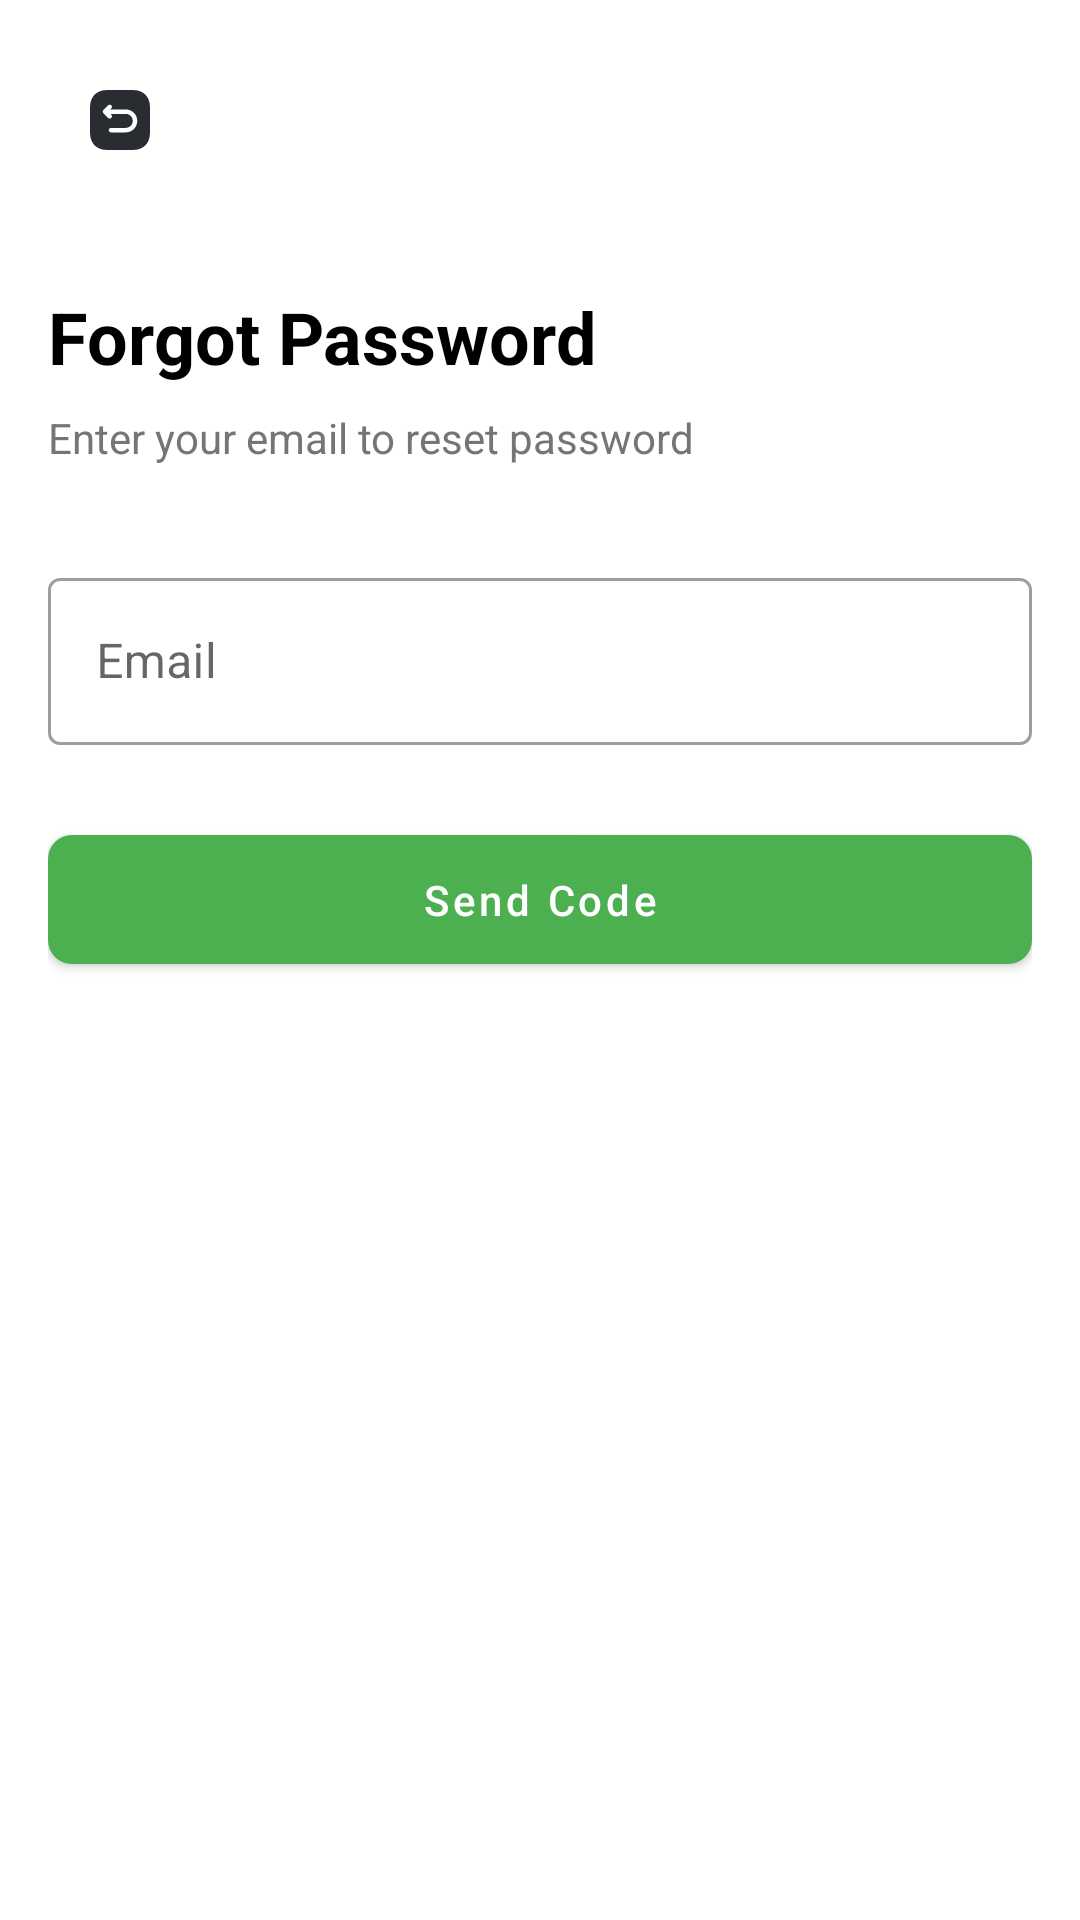

Screen size 1080×1920. Icon name, then its center in pixels as [x,y]:
back: [120,120]
